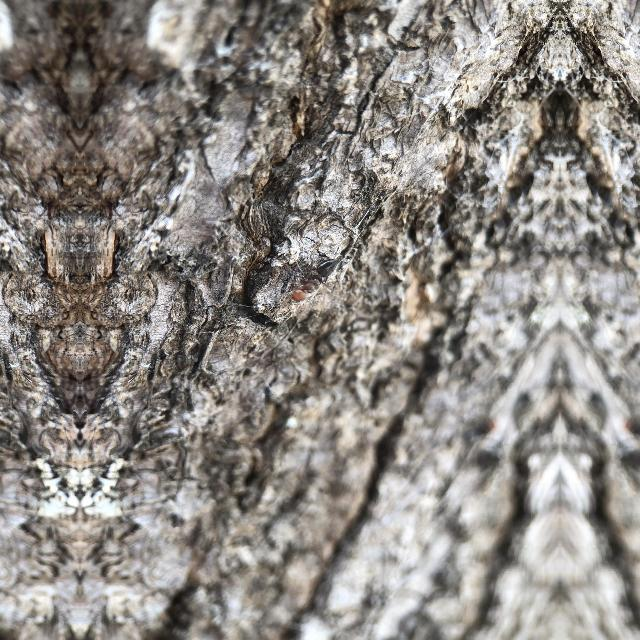Crematogaster: (277, 248, 341, 308)
